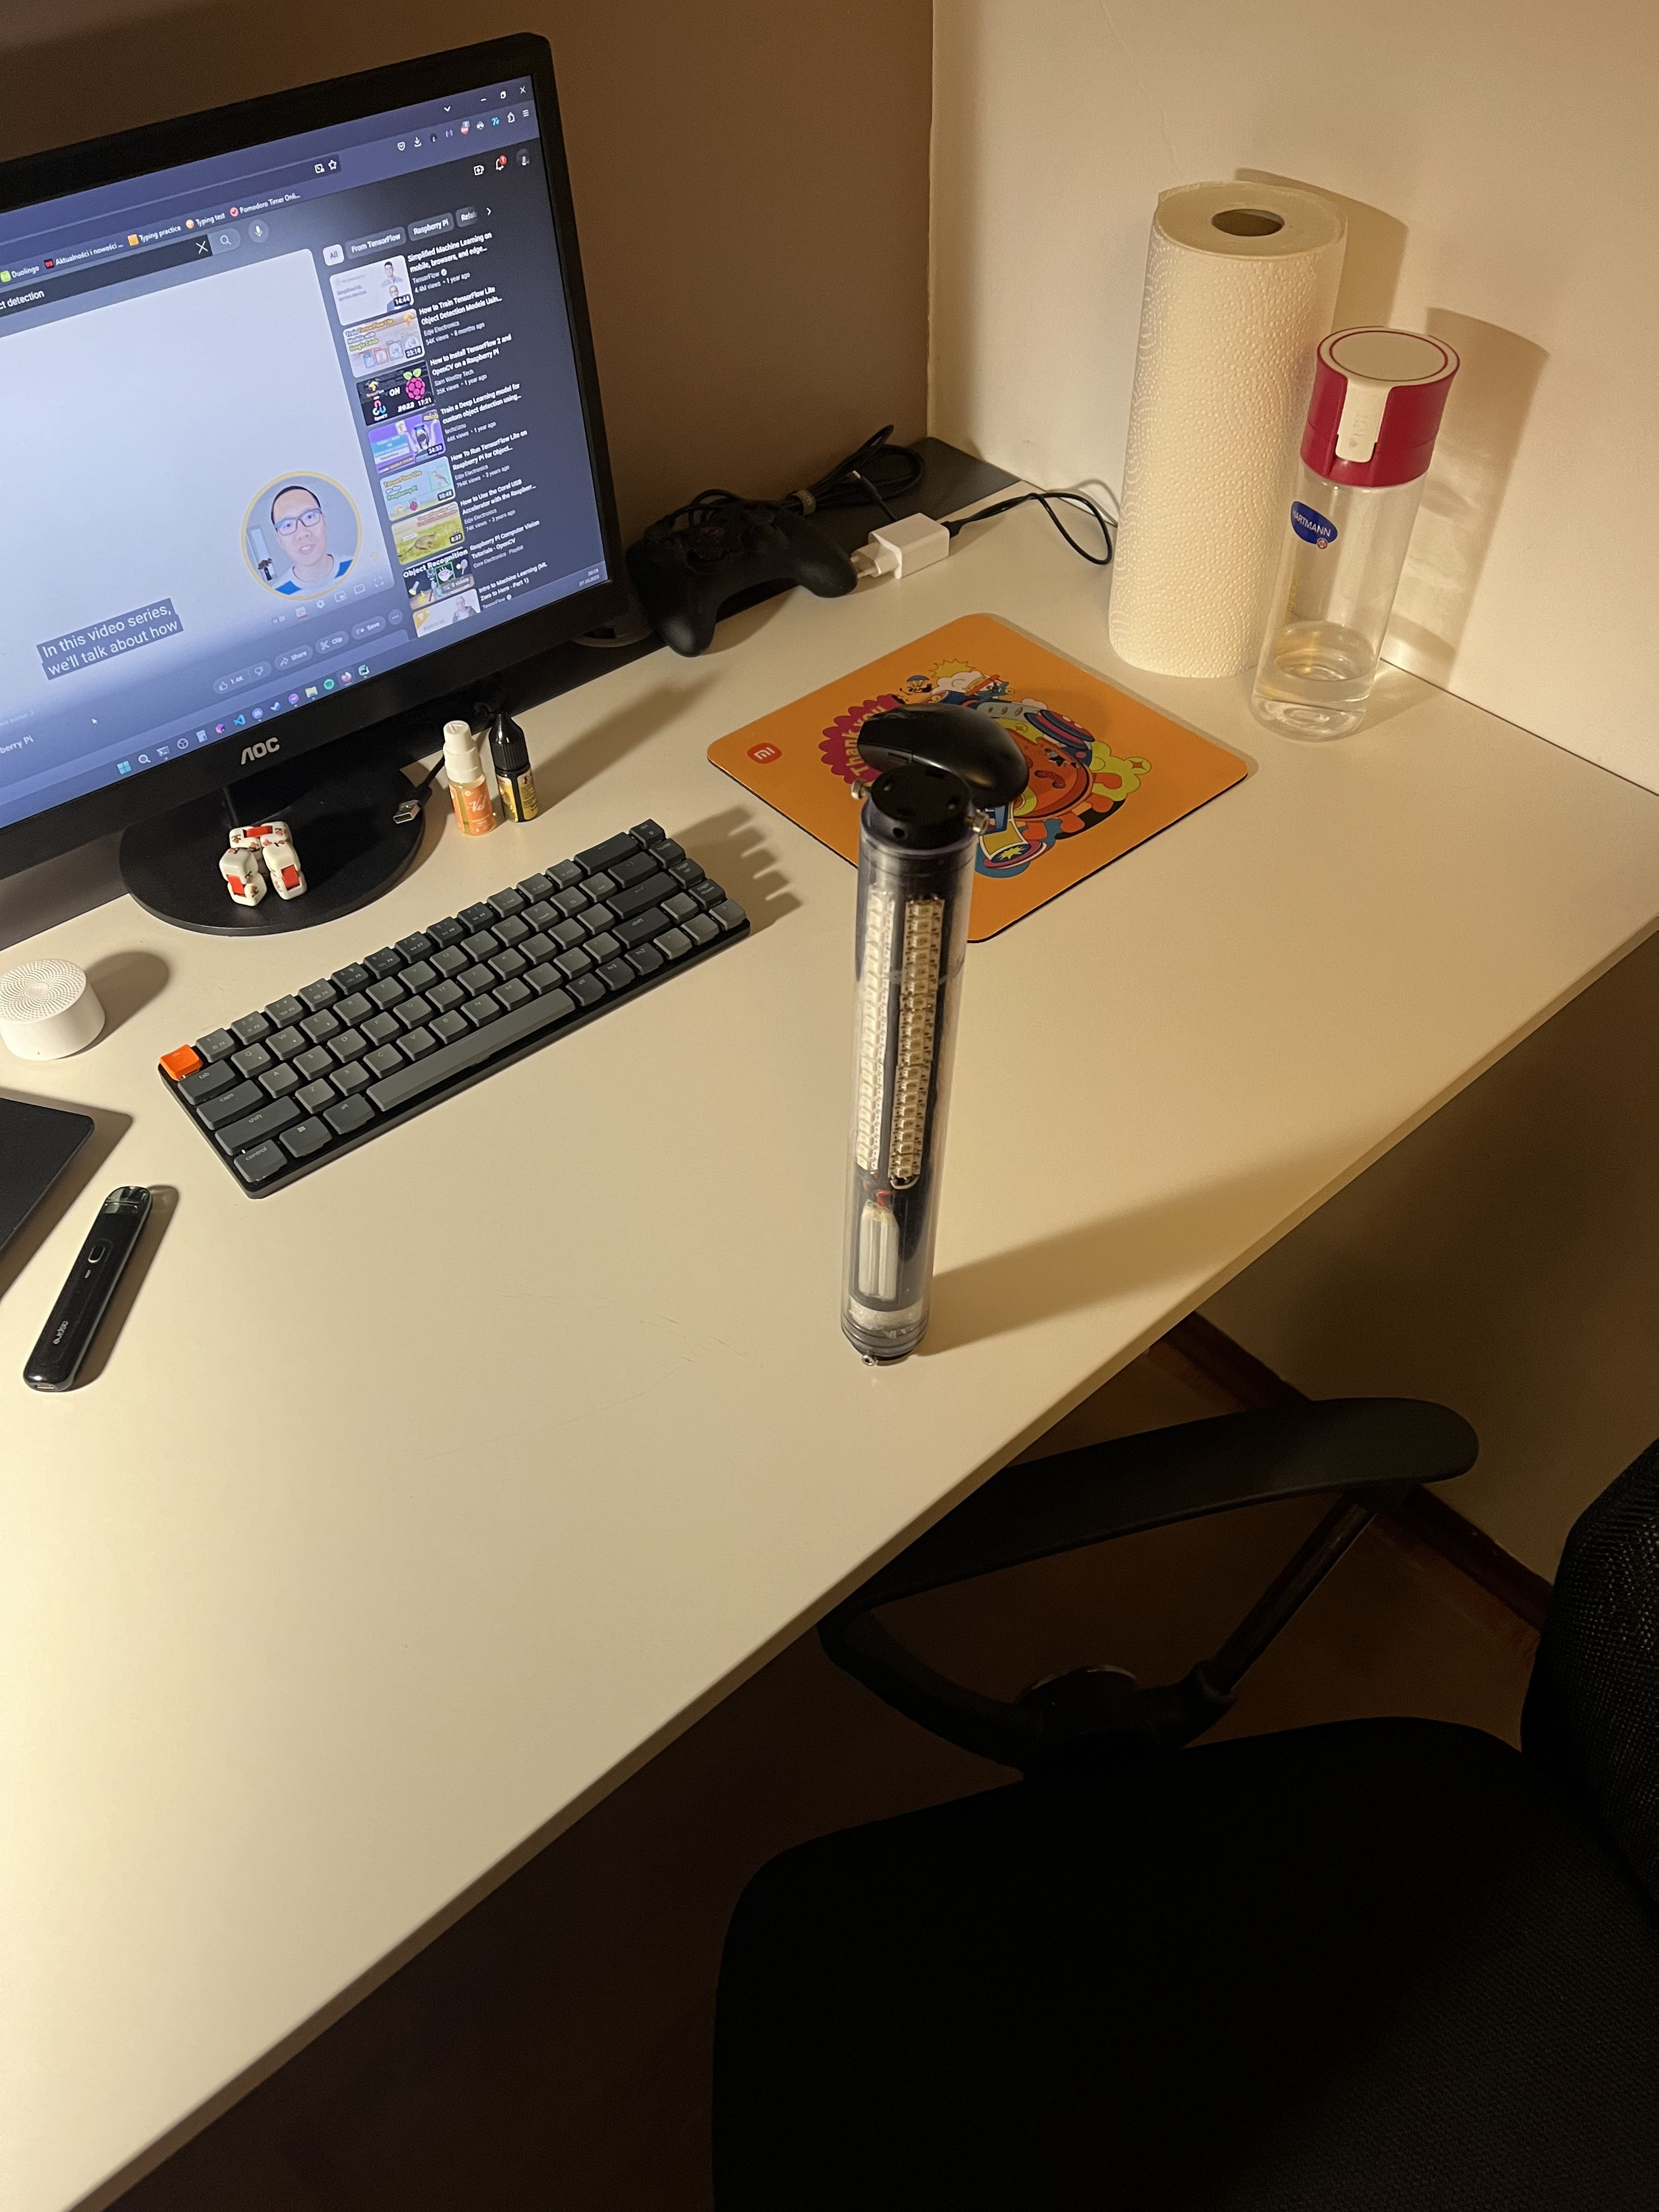black: (843, 829, 979, 1362)
